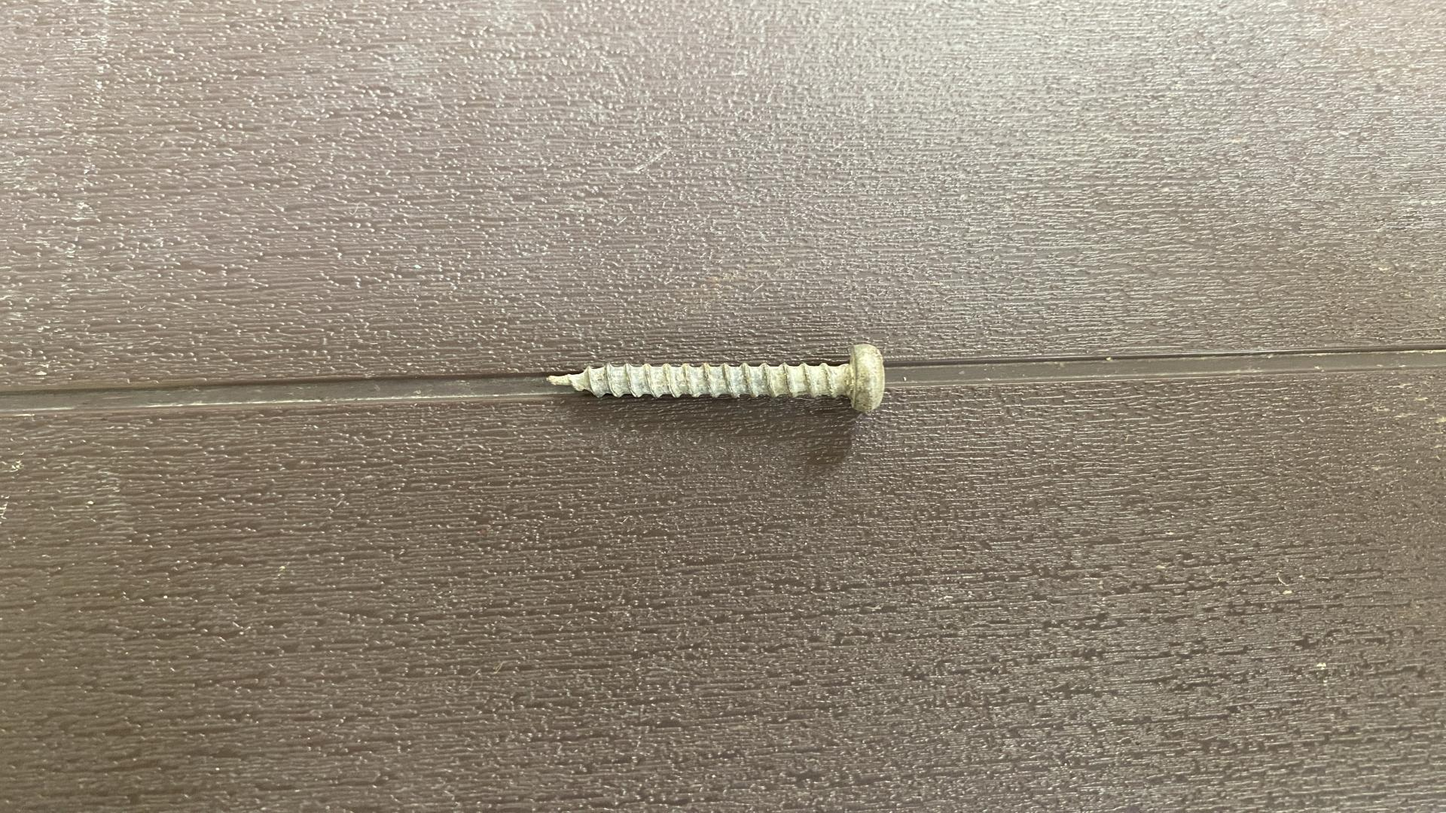screw: (504, 310, 959, 446)
